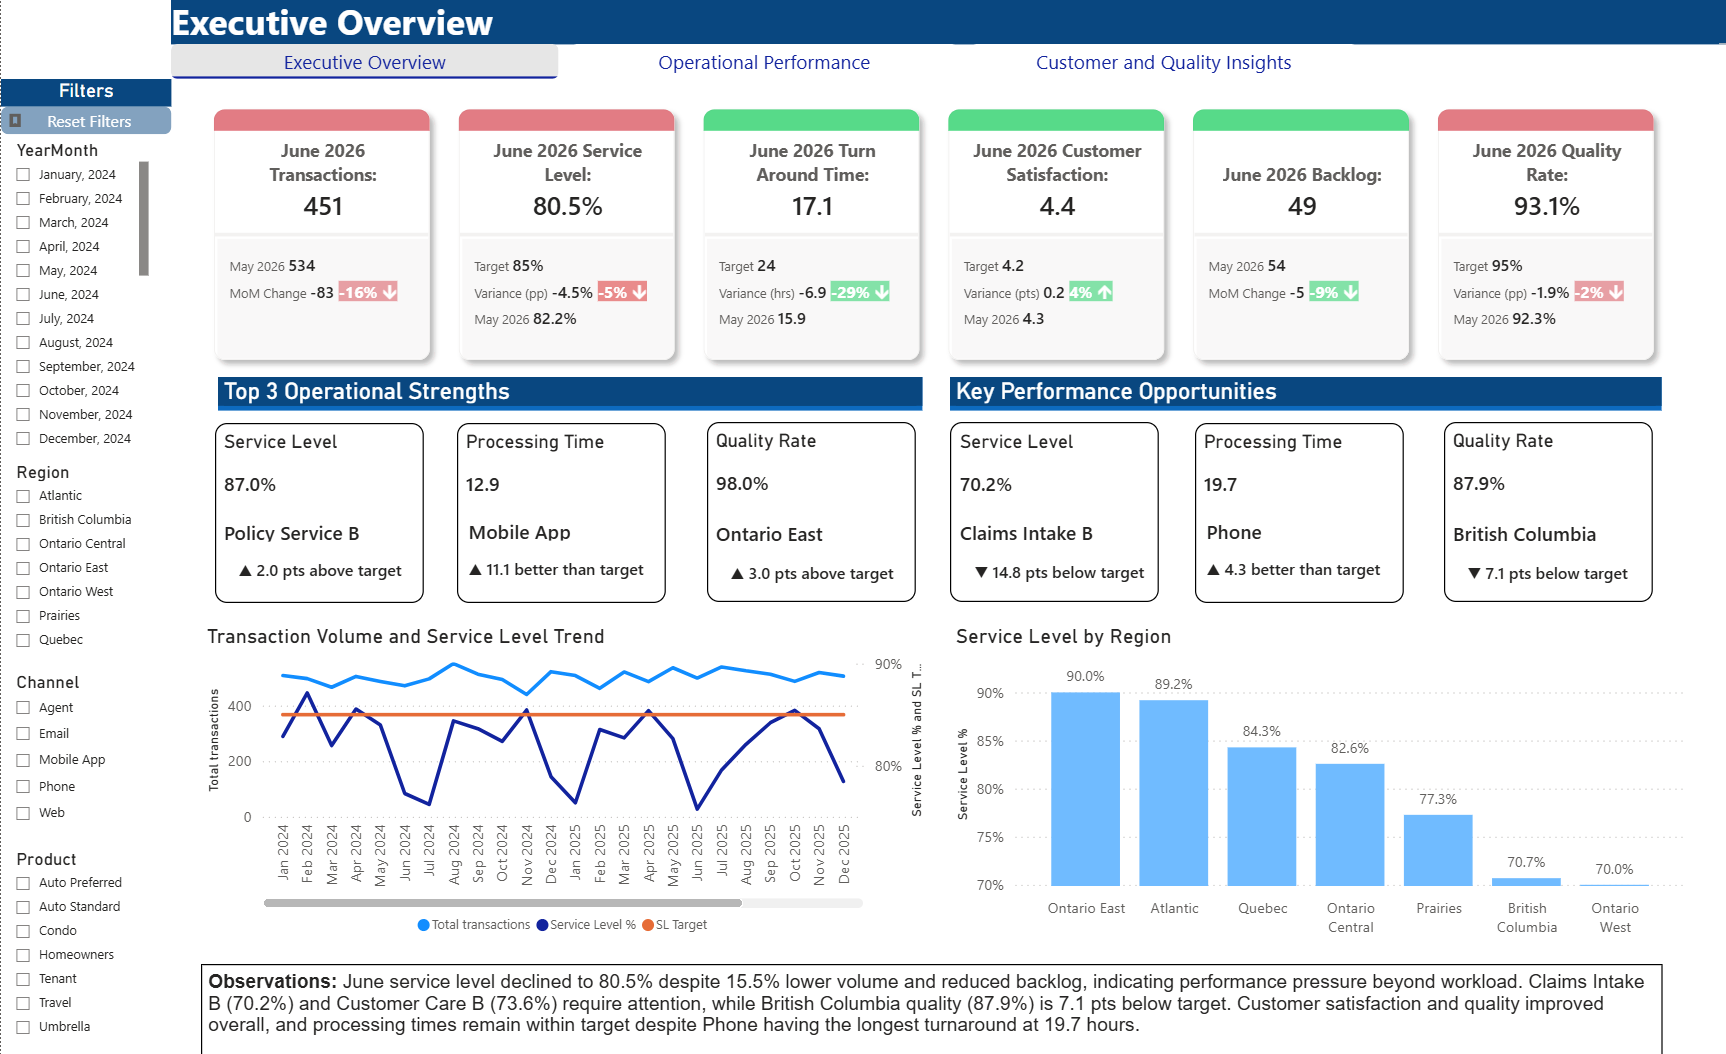

Layout of this report page (visuals, bound fields, positions):
{"tool":"powerbi","page":{"name":"Executive Overview","canvas":[1440,900],"ordinal":0},"visuals":[{"type":"cardVisual","fields":{"Data":["Measures table.Total transactions","Measures table.Service Level %","Measures table.Average Processing Time","Measures table.Average customer satisfaction","Measures table.Backlog","Measures table.Quality rate %"]},"box":[158,95,1243,241],"z":0},{"type":"slicer","fields":{"Values":["DimDate.YearMonth"]},"box":[0,132,127.9,267.9],"z":1000},{"type":"lineChart","title":"Transaction Volume and Service Level Trend","fields":{"Category":["DimDate.Month Year Label"],"Y":["Measures table.Total transactions"],"Y2":["Measures table.Service Level %","Measures table.SL Target"]},"box":[166.7,540,606.7,268.3],"z":2000},{"type":"columnChart","title":"Service Level by Region","fields":{"Category":["DimRegion.Region"],"Y":["Measures table.Service Level %"]},"box":[790.8,540,618.3,268.3],"z":3000},{"type":"slicer","fields":{"Values":["DimRegion.Region"]},"box":[0,400.2,128,178],"z":4000},{"type":"slicer","fields":{"Values":["DimChannel.Channel"]},"box":[0,575,128,147],"z":5000},{"type":"slicer","fields":{"Values":["DimProduct.Product"]},"box":[0,722.2,134,171],"z":6000},{"type":"textbox","title":"INSURANCE OPERATIONS PERFORMANCE","box":[142,0,1298,57],"z":7000},{"type":"textbox","title":"Key Performance Opportunities","box":[790.8,334.2,592.5,27.5],"z":8000},{"type":"pageNavigator","title":"lalala","box":[142,57,991,29],"z":9000},{"type":"actionButton","title":"Filters","box":[0,86,142,46],"z":10000},{"type":"textbox","title":"Top 3 Operational Strengths","box":[180.8,334.2,586.7,27.5],"z":11000},{"type":"textbox","box":[166.7,823.3,1217.5,76.7],"z":12000},{"type":"cardVisual","title":"Service Level","fields":{"Data":["Measures table.Best Team Service Level"]},"box":[185.8,378.2,172.5,63.3],"z":13000},{"type":"cardVisual","title":"Service Level","fields":{"Data":["Measures table.Best Service Level Team"]},"box":[185.8,453.2,172.5,65],"z":14000},{"type":"textbox","box":[178.3,372.3,174.2,150],"z":15000},{"type":"cardVisual","title":"Service Level","fields":{"Data":["Measures table.Worst Team Service Level"]},"box":[799.5,378.2,172.5,63.3],"z":16000},{"type":"cardVisual","title":"Service Level","fields":{"Data":["Measures table.Worst Service Level Team"]},"box":[799.3,453.2,172.5,69.2],"z":17000},{"type":"textbox","box":[791,371.5,174.2,150],"z":18000},{"type":"cardVisual","title":"Processing Time","fields":{"Data":["Measures table.Best Channel Processing Time"]},"box":[387.6,378.2,172.5,63.3],"z":19000},{"type":"cardVisual","title":"Service Level","fields":{"Data":["Measures table.Best Processing Time Channel"]},"box":[377.7,452.3,182.5,65],"z":20000},{"type":"textbox","box":[380.1,372.3,174.2,150],"z":21000},{"type":"cardVisual","title":"Quality Rate","fields":{"Data":["Measures table.Best Region quality Rate"]},"box":[596.1,377.3,172.5,63.3],"z":22000},{"type":"cardVisual","title":"Service Level","fields":{"Data":["Measures table.Best Quality Rate Region"]},"box":[596,452.3,171.7,75],"z":23000},{"type":"textbox","box":[588.6,371.5,174.2,150],"z":24000},{"type":"cardVisual","title":"Quality Rate","fields":{"Data":["Measures table.Worst Region quality Rate"]},"box":[1210.3,377.3,172.5,63.3],"z":25000},{"type":"cardVisual","title":"Service Level","fields":{"Data":["Measures table.Worst Quality Rate Region"]},"box":[1210.2,452.3,171.7,75],"z":26000},{"type":"textbox","box":[1202.8,371.5,174.2,150],"z":27000},{"type":"cardVisual","title":"Processing Time","fields":{"Data":["Measures table.Worst Channel Processing Time"]},"box":[1002.8,378.2,172.5,63.3],"z":28000},{"type":"cardVisual","title":"Service Level","fields":{"Data":["Measures table.Worst Processing Time Channel"]},"box":[992.9,452.3,182.5,65],"z":29000},{"type":"textbox","box":[995.3,372.3,174.2,150],"z":30000}]}

Visuals, with their boxes in screenshot pixels (x1, y1, x2, y2), scaled from the page's 1440x900 canvas onto the 1726x1054 screenshot:
cardVisual - Measures table.Total transactions x Measures table.Service Level %: 189,111,1679,393
slicer - DimDate.YearMonth: 0,155,153,468
"Transaction Volume and Service Level Trend" lineChart: 200,632,927,947
"Service Level by Region" columnChart: 948,632,1689,947
slicer - DimRegion.Region: 0,469,153,677
slicer - DimChannel.Channel: 0,673,153,846
slicer - DimProduct.Product: 0,846,161,1046
"INSURANCE OPERATIONS PERFORMANCE" textbox: 170,0,1725,67
"Key Performance Opportunities" textbox: 948,391,1658,424
"lalala" pageNavigator: 170,67,1358,101
"Filters" actionButton: 0,101,170,155
"Top 3 Operational Strengths" textbox: 217,391,920,424
textbox: 200,964,1659,1053
"Service Level" cardVisual: 223,443,429,517
"Service Level" cardVisual: 223,531,429,607
textbox: 214,436,423,612
"Service Level" cardVisual: 958,443,1165,517
"Service Level" cardVisual: 958,531,1165,612
textbox: 948,435,1157,611
"Processing Time" cardVisual: 465,443,671,517
"Service Level" cardVisual: 453,530,671,606
textbox: 456,436,664,612
"Quality Rate" cardVisual: 714,442,921,516
"Service Level" cardVisual: 714,530,920,618
textbox: 706,435,914,611
"Quality Rate" cardVisual: 1451,442,1657,516
"Service Level" cardVisual: 1451,530,1656,618
textbox: 1442,435,1650,611
"Processing Time" cardVisual: 1202,443,1409,517
"Service Level" cardVisual: 1190,530,1409,606
textbox: 1193,436,1402,612
